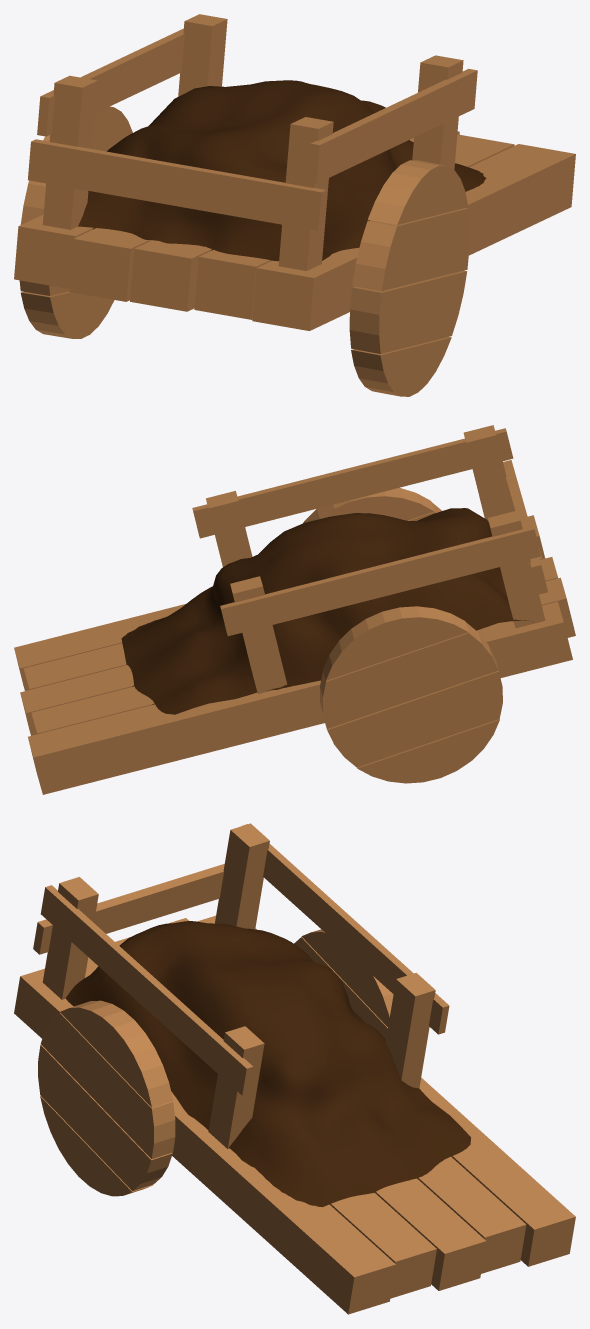
The model's file is Wheelbarrow.fbx.
3 renders of one model, top to bottom at view 1: azimuth 30°, elevation 25°; view 2: azimuth 150°, elevation 25°; view 3: azimuth 270°, elevation 25°, orthographic. The views are drawn at different scales.
Parts seen in each view (by area): view 1: wheelbarrow; view 2: wheelbarrow; view 3: wheelbarrow.
Part boxes in pixels (bbox=[...]): wheelbarrow: bbox=[14, 14, 575, 396]; wheelbarrow: bbox=[14, 425, 575, 794]; wheelbarrow: bbox=[14, 823, 575, 1314].
Bounding box in the file's own units: 65.73 × 30.86 × 60.12.
